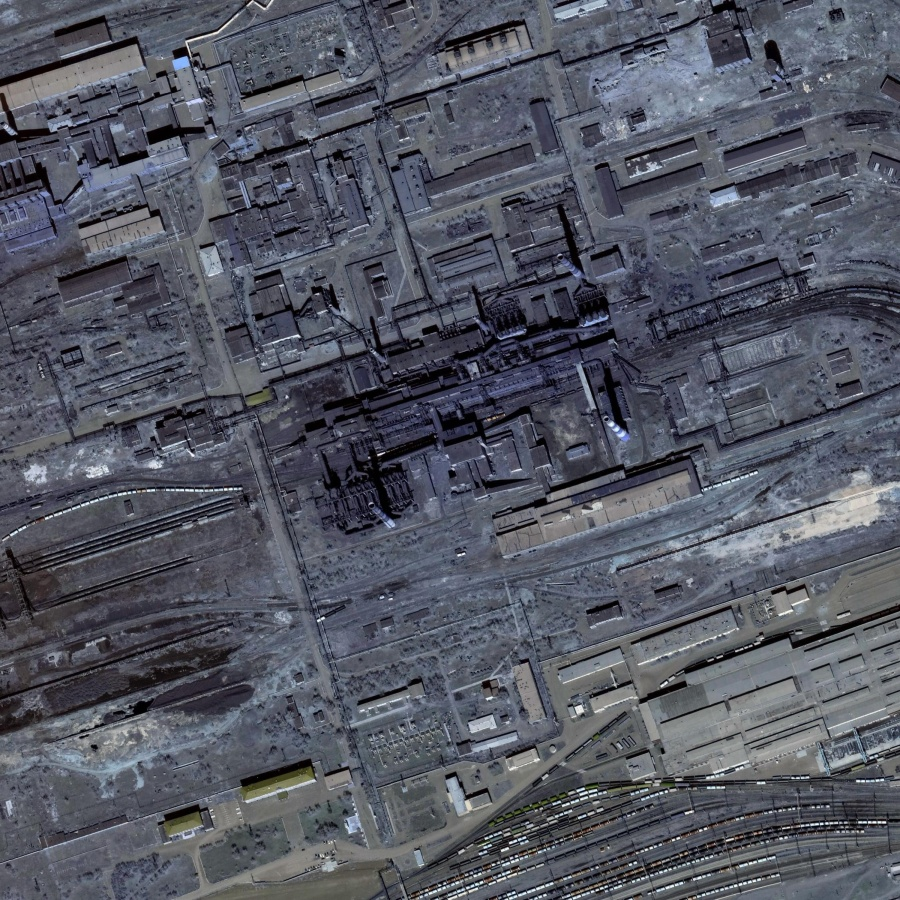PowerPlant: (298, 241, 650, 535)
